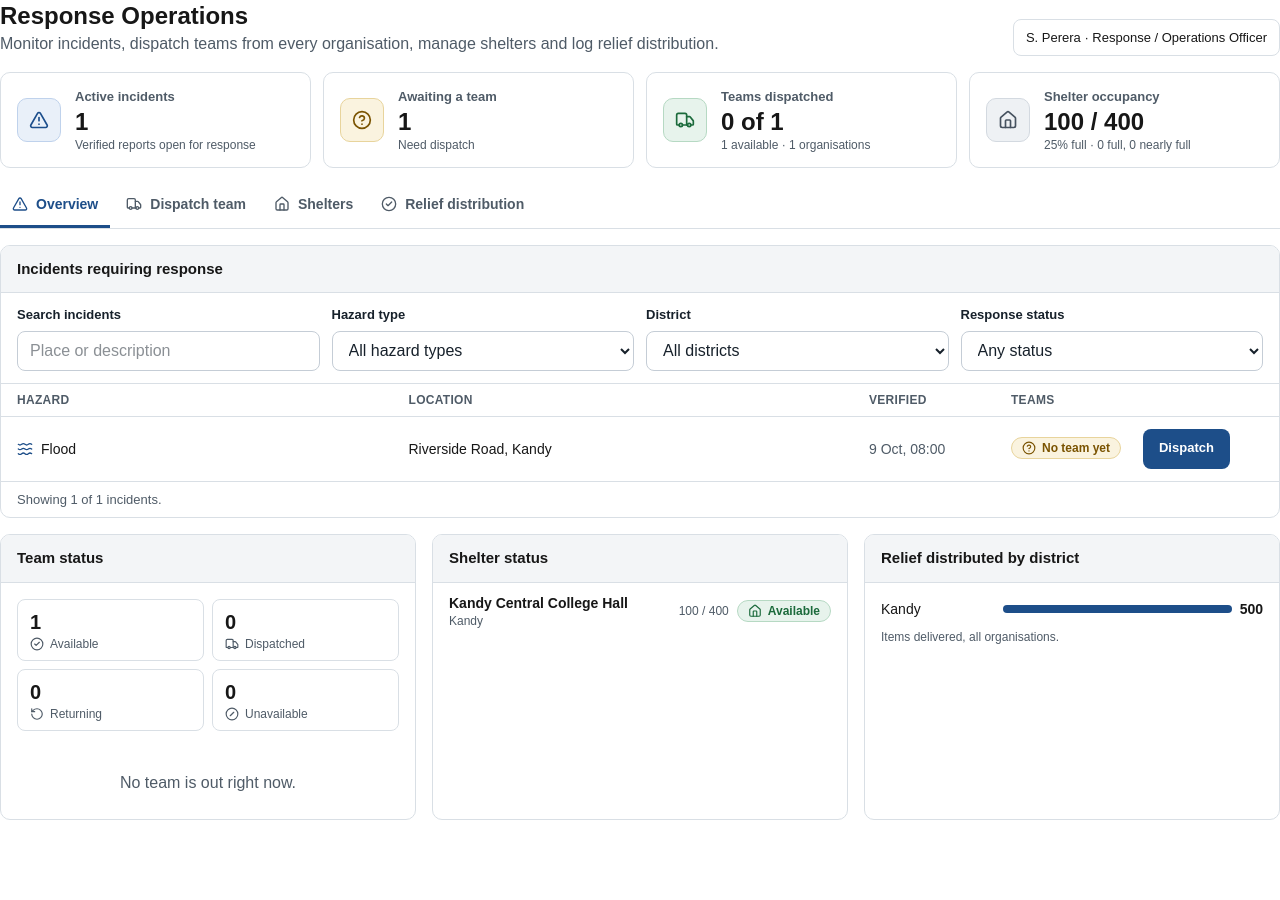
Test case: Dispatch Rescue Team › asks to confirm before committing a team (step 7)
Check: the text "Active incidents" is shown, box [75,89,175,104]
Click the tab "Dispatch team".
click(186, 206)  # box [114,184,258,228]
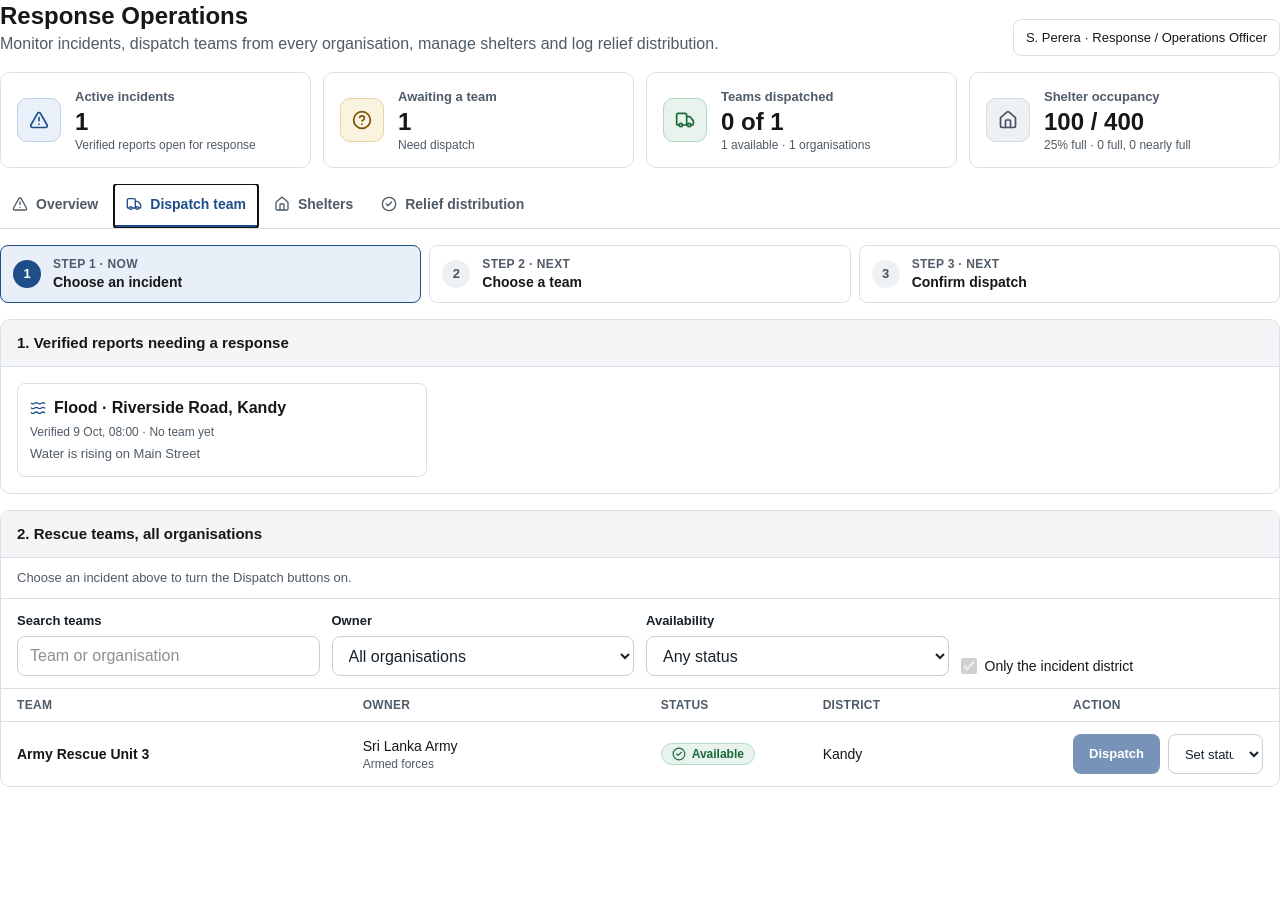
Click the radio button labelled "Flood".
click(76, 408)  # box [17,383,427,476]
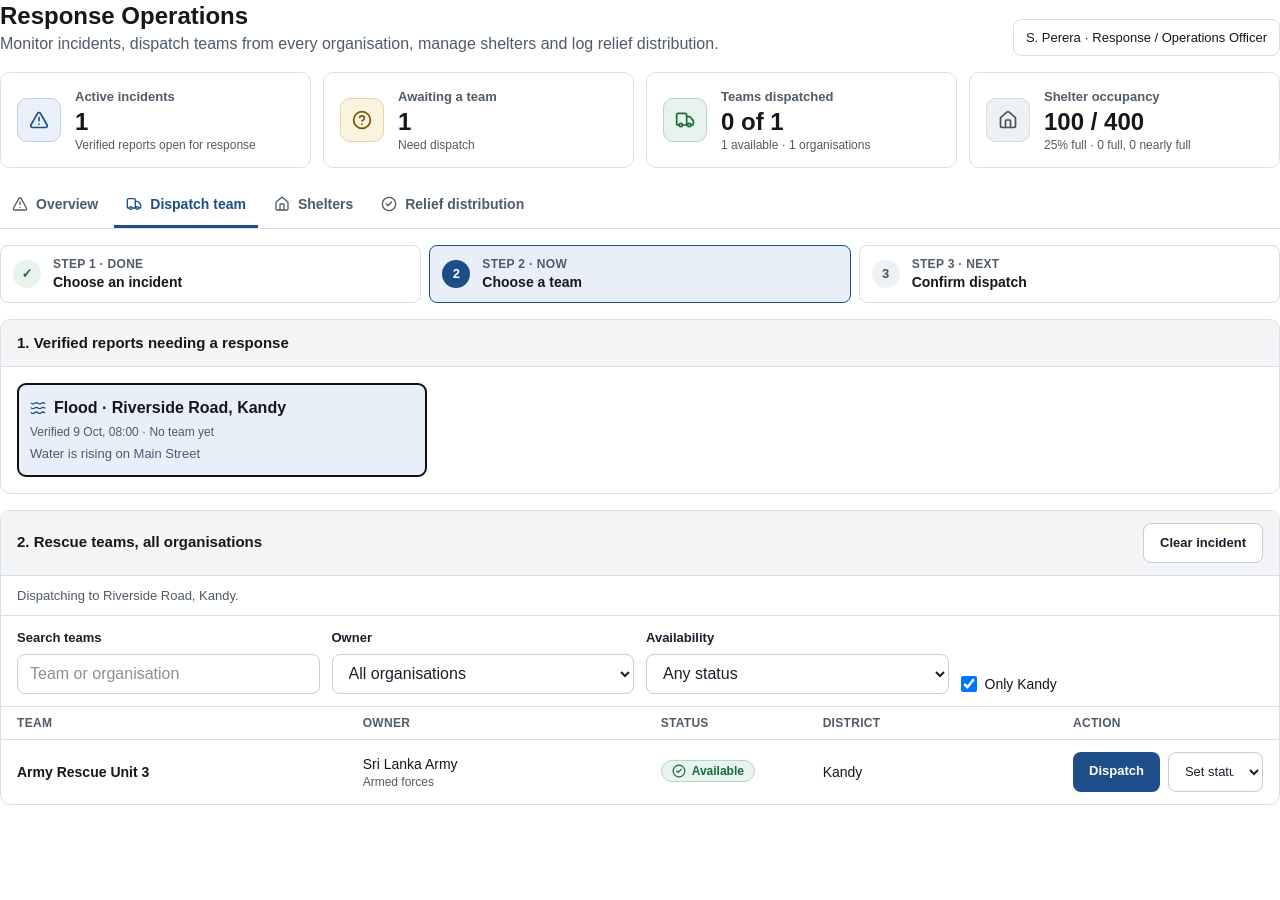
Click the button "Dispatch".
click(1116, 772)  # box [1073,752,1160,792]
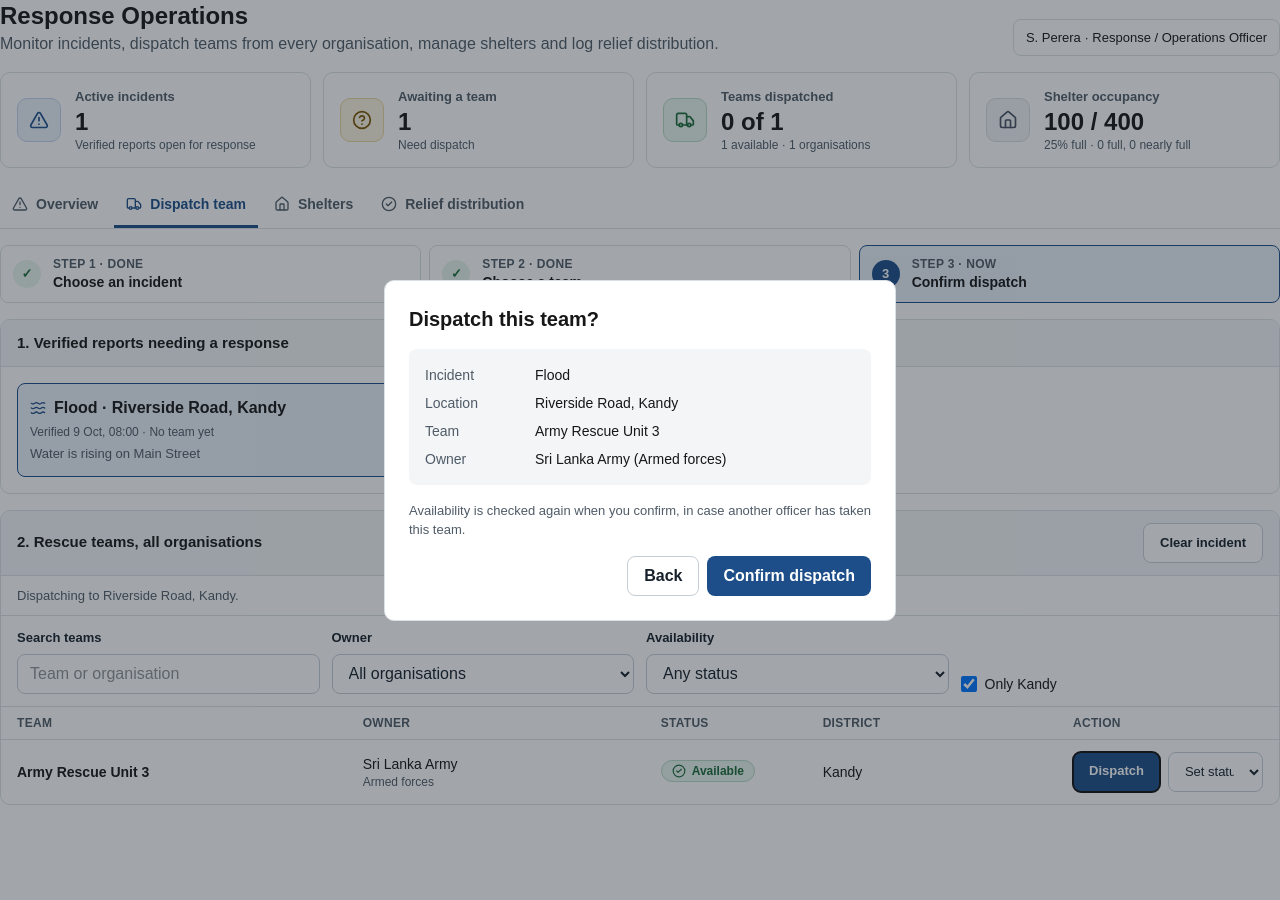
Check: the dialog shows "Army Rescue Unit 3", box [535,422,660,438]
Check: the dialog shows "Sri Lanka Army (Armed forces)", box [535,450,726,466]
Check: the dialog shows "availability is checked again", box [409,502,871,537]
